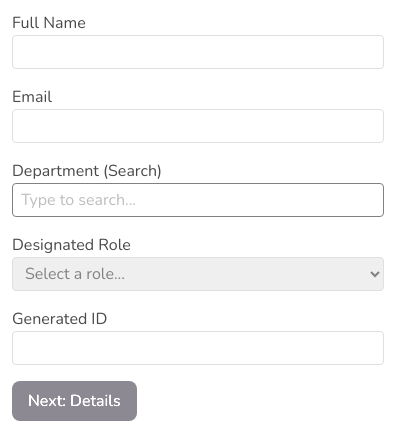
Step1BasicInfo Component › enables the Next button only when all fields are valid
This screenshot has width=401, height=438.
# Fill Name
Type "John Doe" into the field labelled "Full Name" at {"x": 198, "y": 52}, box [12,35,384,69]
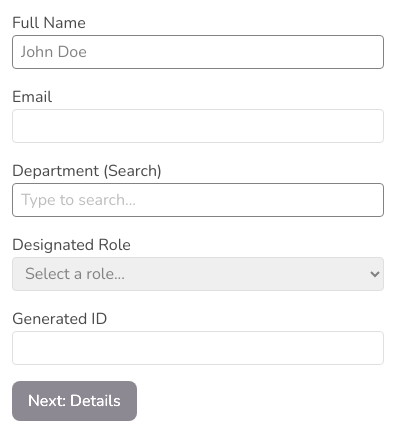
# Fill Email
Type "john@example.com" into the field labelled "Email" at {"x": 198, "y": 126}, box [12,109,384,143]
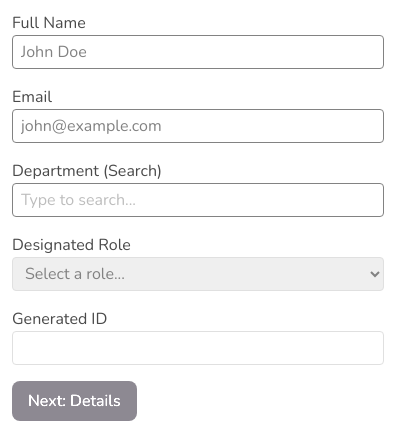
# Select Role
Select "Admin" in the dropdown labelled "Designated Role" at {"x": 198, "y": 274}, box [12,257,384,291]
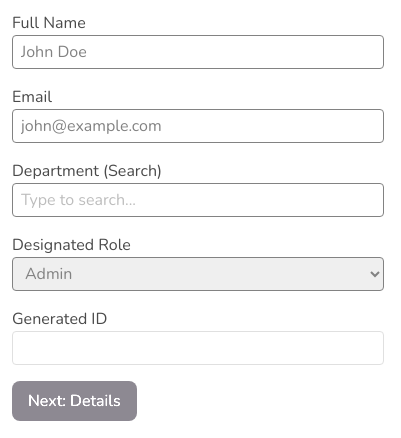
# Simulate Search and Select Department (triggers ID generation)
Type "Eng" into the field with placeholder "Type to search..." at {"x": 198, "y": 200}, box [12,183,384,217]
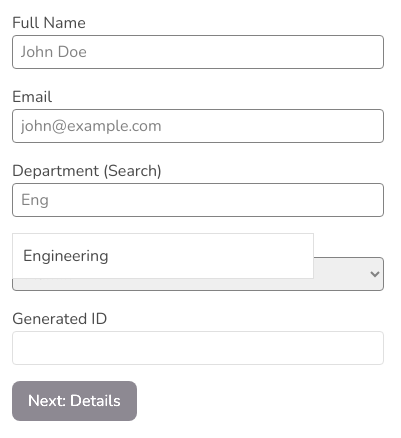
Click the list item "Engineering" at {"x": 66, "y": 256}, box [23,245,108,267]
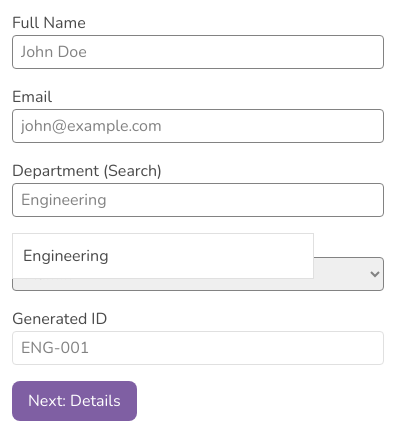
Now the button "Next: Details" is enabled, box [12,381,137,421]
